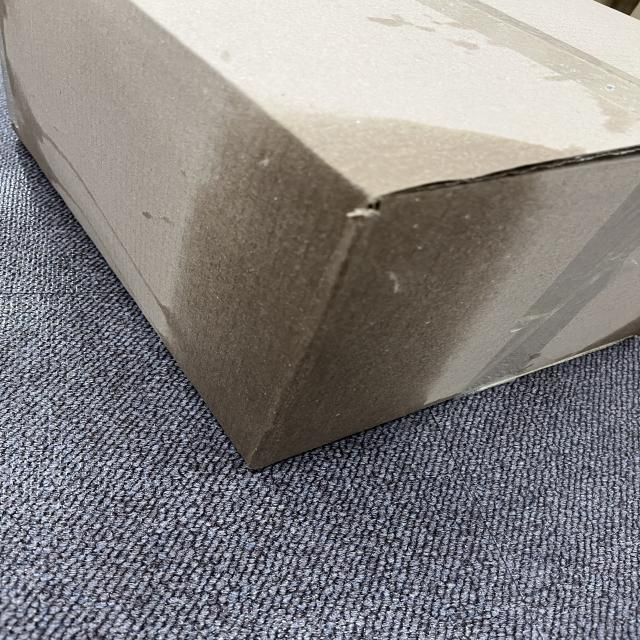wet: (170, 87, 564, 462)
